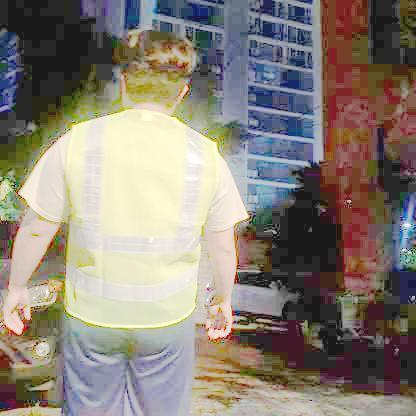no-helmet: (114, 19, 195, 118)
vest: (63, 108, 222, 330)
